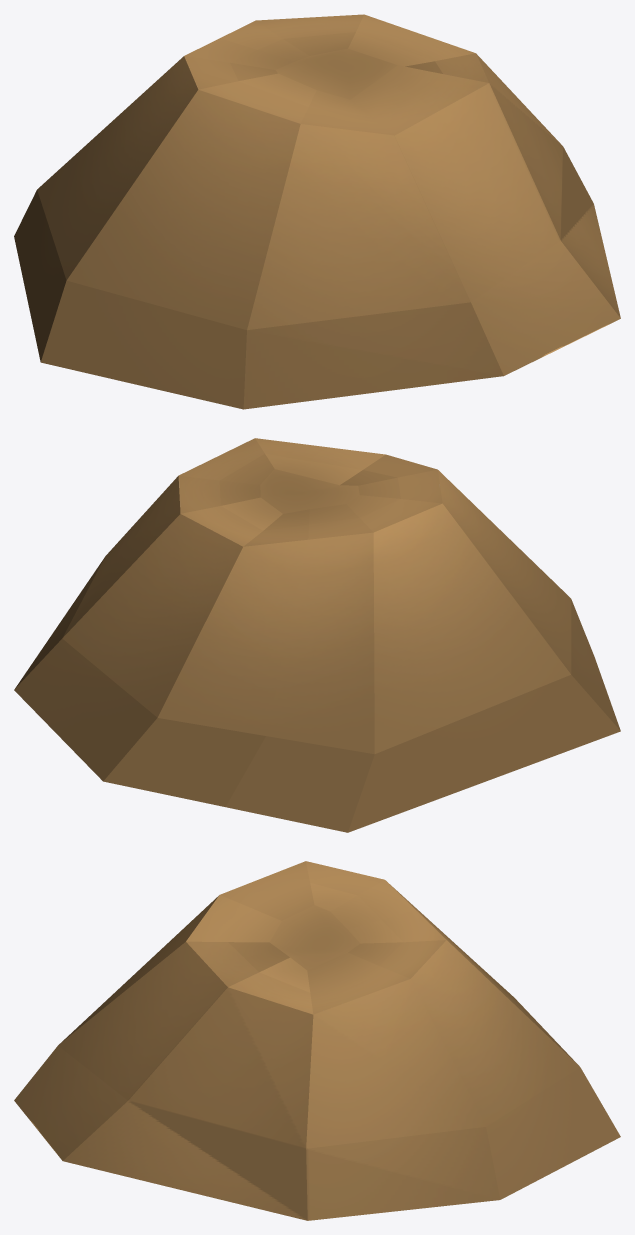
The model's file is treecutted.fbx.
3 views of the same model, one above another, from view 1: azimuth 30°, elevation 25°; view 2: azimuth 150°, elevation 25°; view 3: azimuth 270°, elevation 25° (orthographic). The views are drawn at different scales.
Parts seen in each view (by area): view 1: Treecutted; view 2: Treecutted; view 3: Treecutted.
Part boxes in pixels (<box>): Treecutted: <box>14,14,620,409</box>; Treecutted: <box>14,438,620,832</box>; Treecutted: <box>14,861,620,1220</box>.
Bounding box in the file's own units: 176 × 70.91 × 182.
